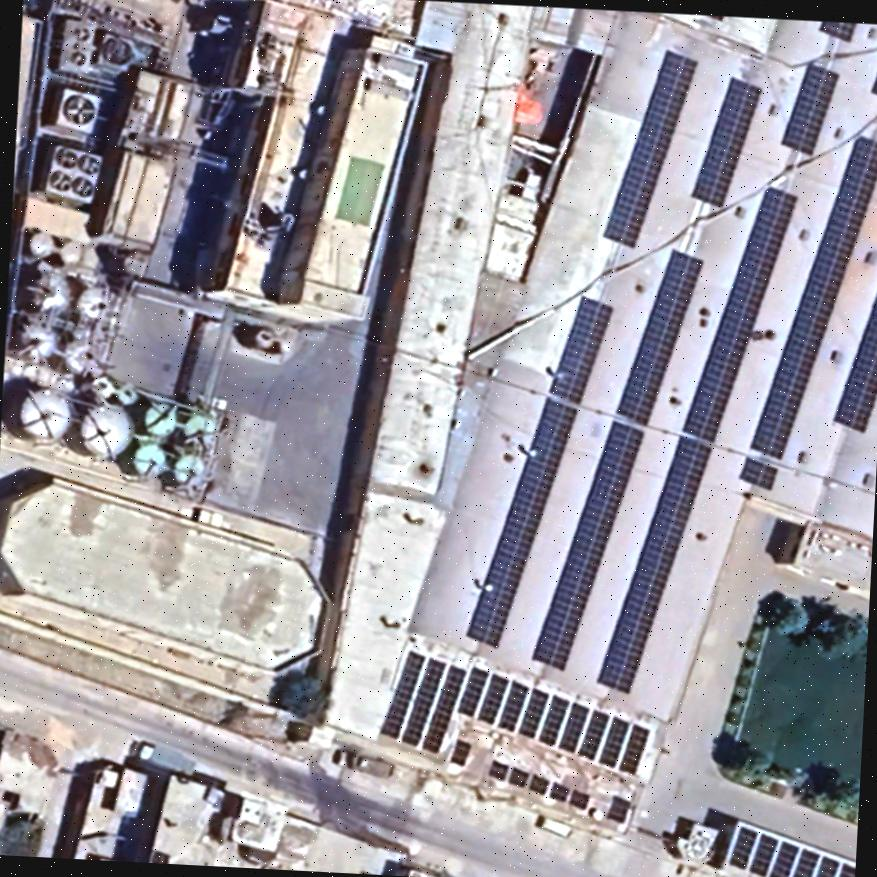Solarpanel: (459, 285, 620, 650), (743, 128, 877, 467), (452, 655, 655, 782), (596, 43, 706, 252), (682, 68, 766, 218), (373, 644, 473, 759), (827, 273, 877, 438), (723, 820, 854, 877), (480, 753, 597, 816), (774, 54, 843, 157), (811, 19, 861, 49), (601, 795, 639, 830), (444, 736, 473, 773), (864, 41, 877, 101)
